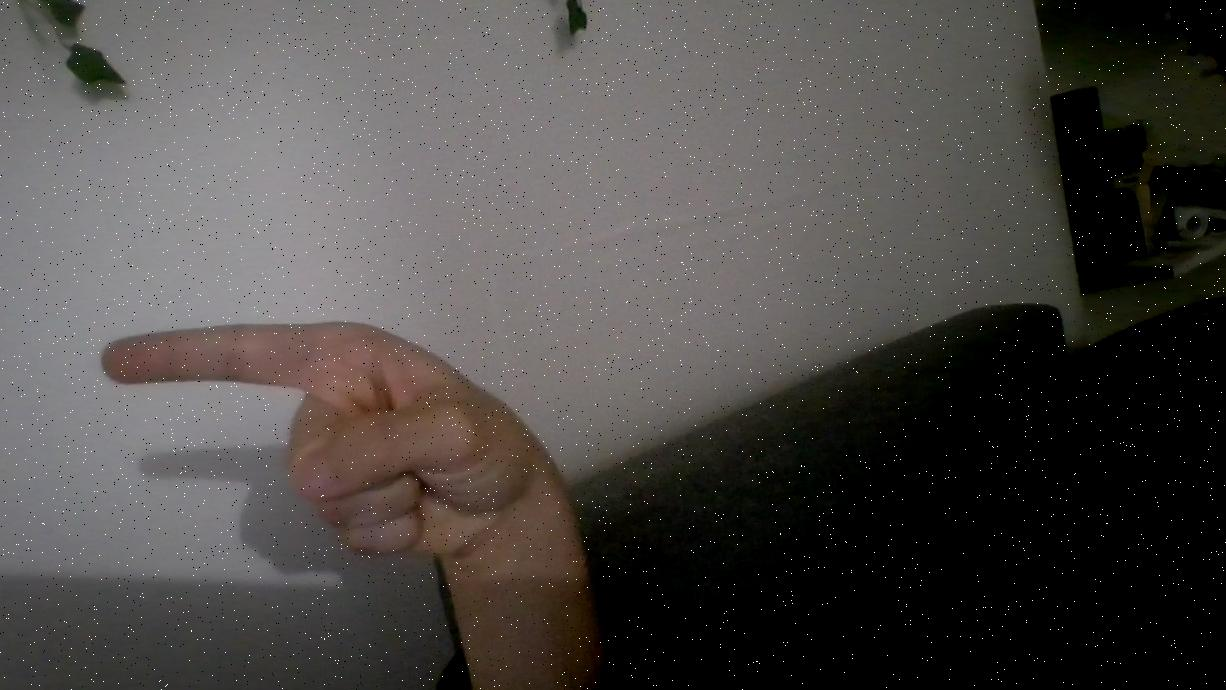left: (86, 284, 591, 572)
